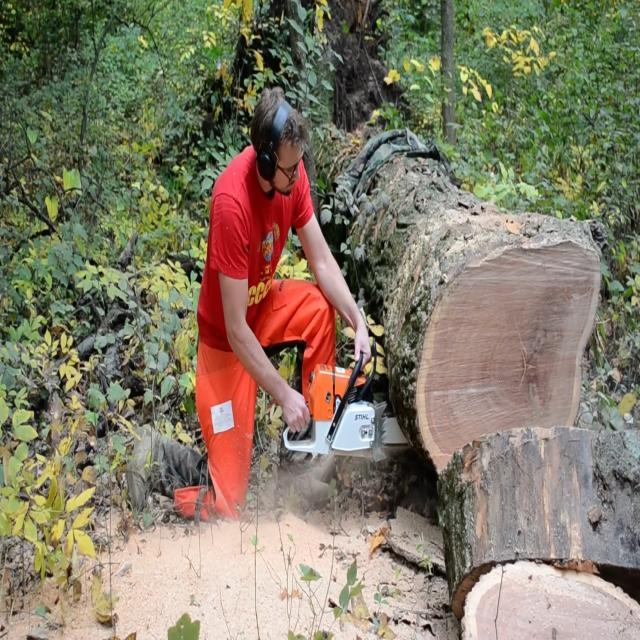Chainsaw: (264, 326, 428, 466)
